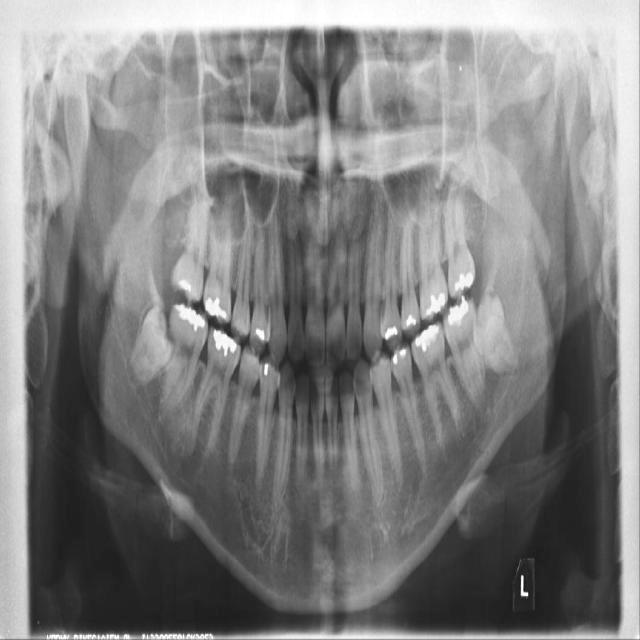Filling: (174, 303, 205, 332), (448, 295, 470, 326), (415, 324, 439, 352), (214, 329, 237, 357), (205, 297, 227, 320), (425, 292, 445, 315), (454, 271, 474, 291), (179, 279, 192, 293), (384, 326, 397, 340), (406, 314, 416, 327), (256, 328, 265, 340), (393, 354, 398, 365), (264, 363, 268, 375), (400, 350, 406, 358)
Periapical lesion: (170, 403, 197, 457)
impacted tooth: (474, 286, 520, 378), (127, 306, 174, 384)
